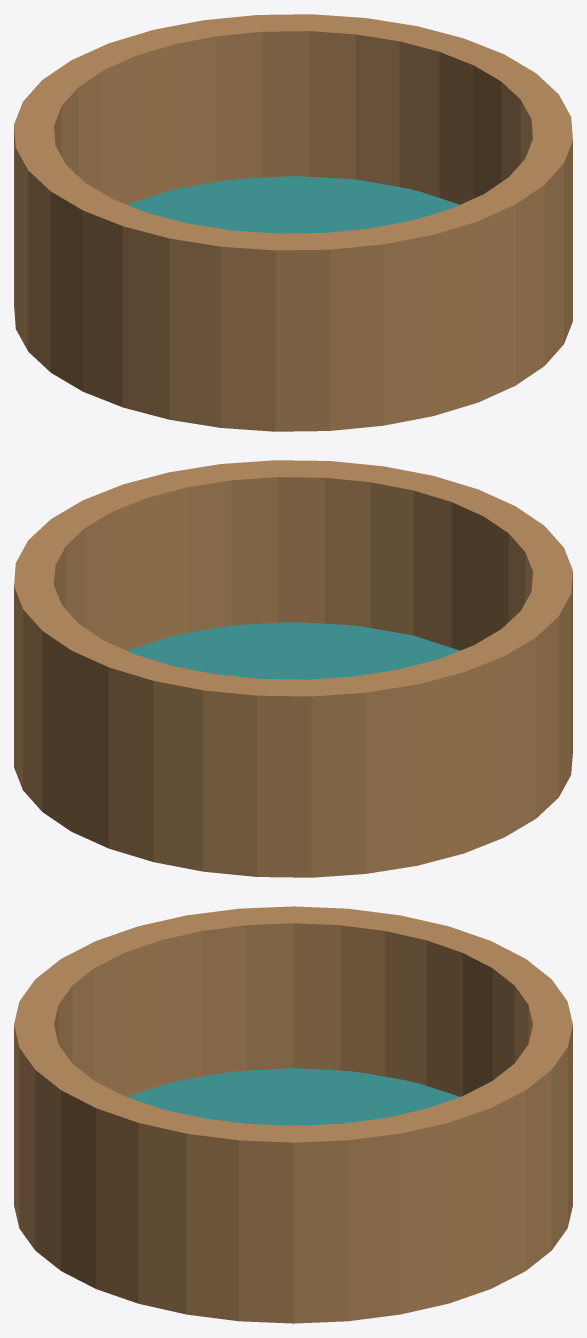
File: tabletop-game-components-token-bowl-0d59ac12__20877.glb
The picture shows the model from 3 angles, top to bottom: view 1: azimuth 30°, elevation 25°; view 2: azimuth 150°, elevation 25°; view 3: azimuth 270°, elevation 25°; orthographic projection.
Visible parts, largest first — view 1: token-bowl; view 2: token-bowl; view 3: token-bowl.
Part boxes in pixels (x1=…): token-bowl: x1=14, y1=14, x2=572, y2=431; token-bowl: x1=14, y1=460, x2=572, y2=877; token-bowl: x1=14, y1=906, x2=572, y2=1323.
Size of the model in its own units: 0.056 by 0.02 by 0.056.
